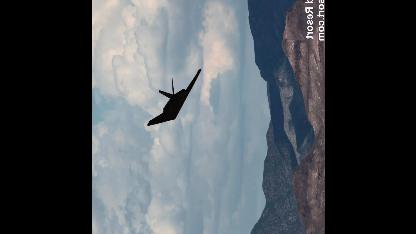E7: (146, 68, 200, 126)
